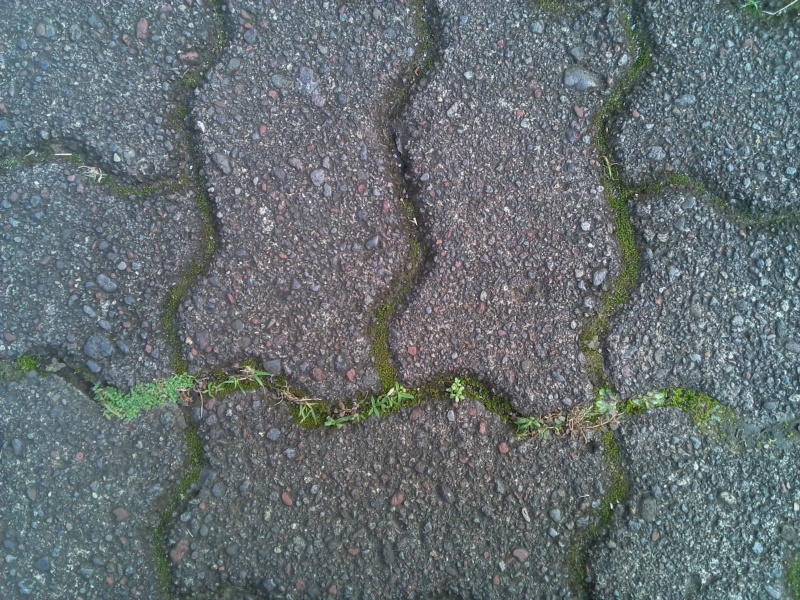Weed: (88, 367, 197, 425), (591, 387, 672, 435), (517, 404, 591, 452), (367, 380, 408, 422), (322, 402, 368, 434), (226, 363, 266, 399), (289, 392, 323, 431), (441, 373, 474, 408), (595, 150, 626, 182)
